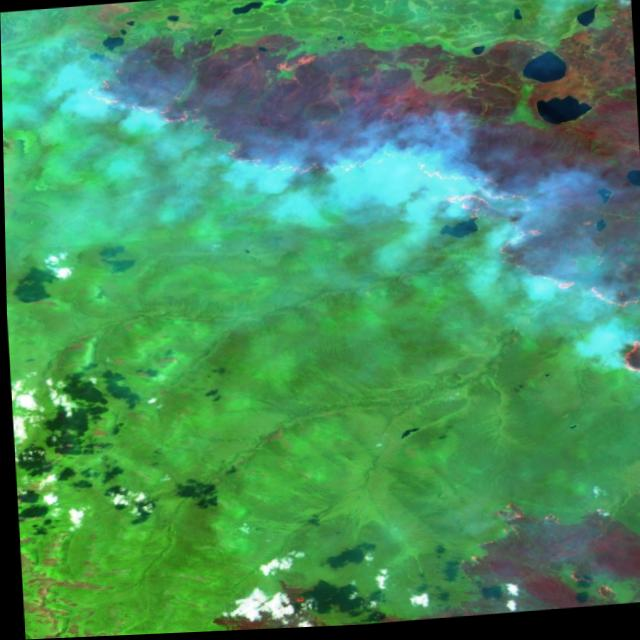fire: (69, 0, 640, 361), (600, 330, 640, 393)
